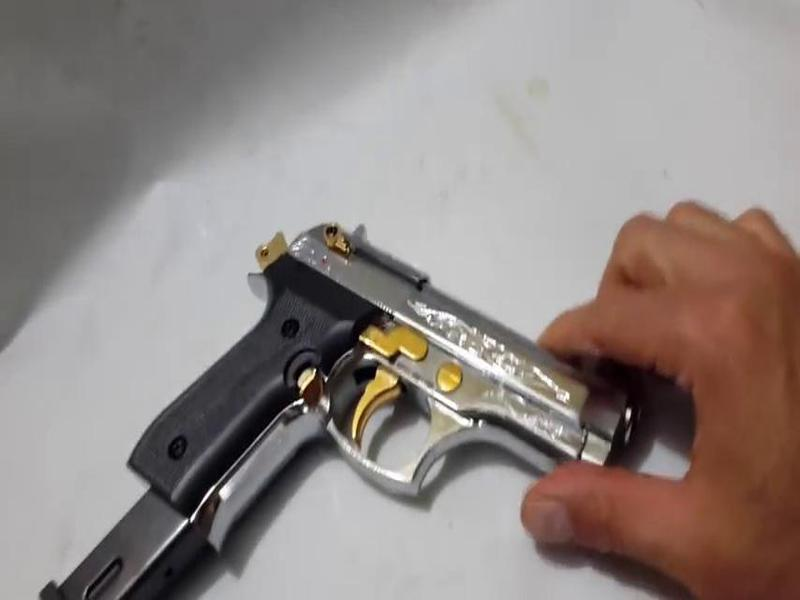Pistola: (165, 194, 628, 534)
